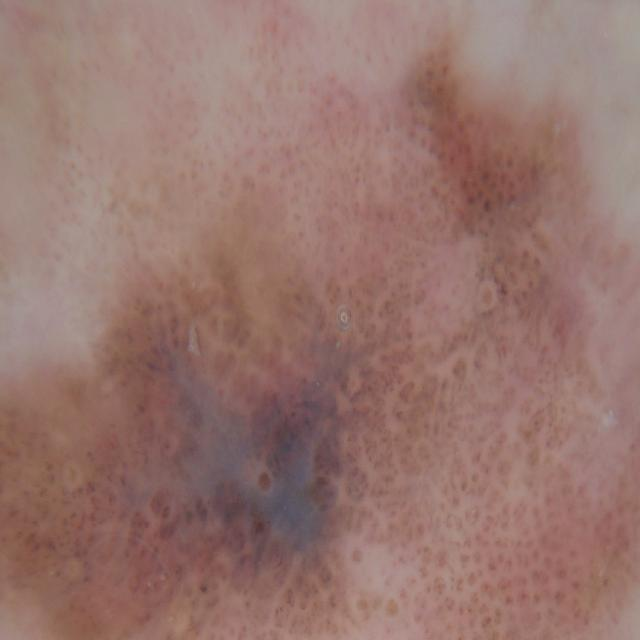Melanoma: (37, 215, 478, 640)
